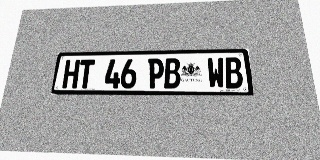4: (104, 59, 122, 88)
6: (120, 59, 137, 88)
B: (224, 57, 244, 88), (164, 58, 180, 88)
H: (62, 60, 80, 88)
P: (147, 58, 164, 88)
T: (77, 59, 95, 88)
W: (207, 57, 225, 88)
